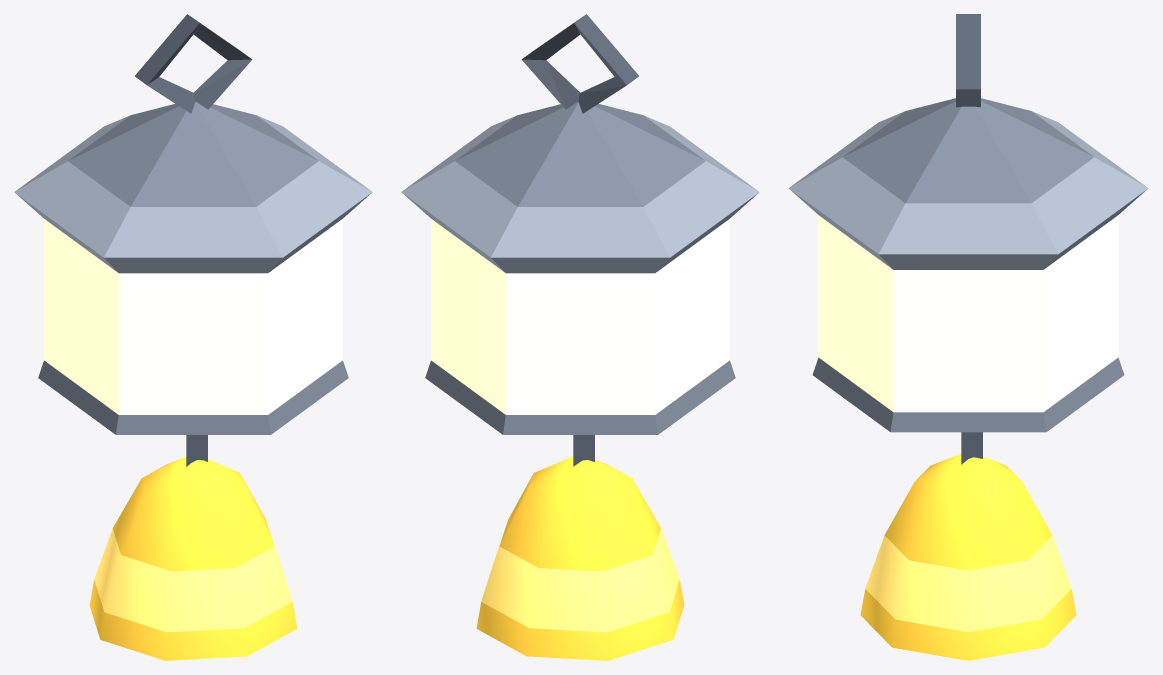
Rendered from lantern-bell.glb.
3 views of the same model, side by side, from view 1: azimuth 30°, elevation 25°; view 2: azimuth 150°, elevation 25°; view 3: azimuth 270°, elevation 25° (orthographic).
Visible parts, largest first — view 1: lantern-bell; view 2: lantern-bell; view 3: lantern-bell.
Part boxes in pixels (bbox=[...]): lantern-bell: bbox=[14, 14, 372, 660]; lantern-bell: bbox=[401, 14, 759, 660]; lantern-bell: bbox=[788, 14, 1148, 660].
Size of the model in its own units: 0.312 by 0.685 by 0.36.
